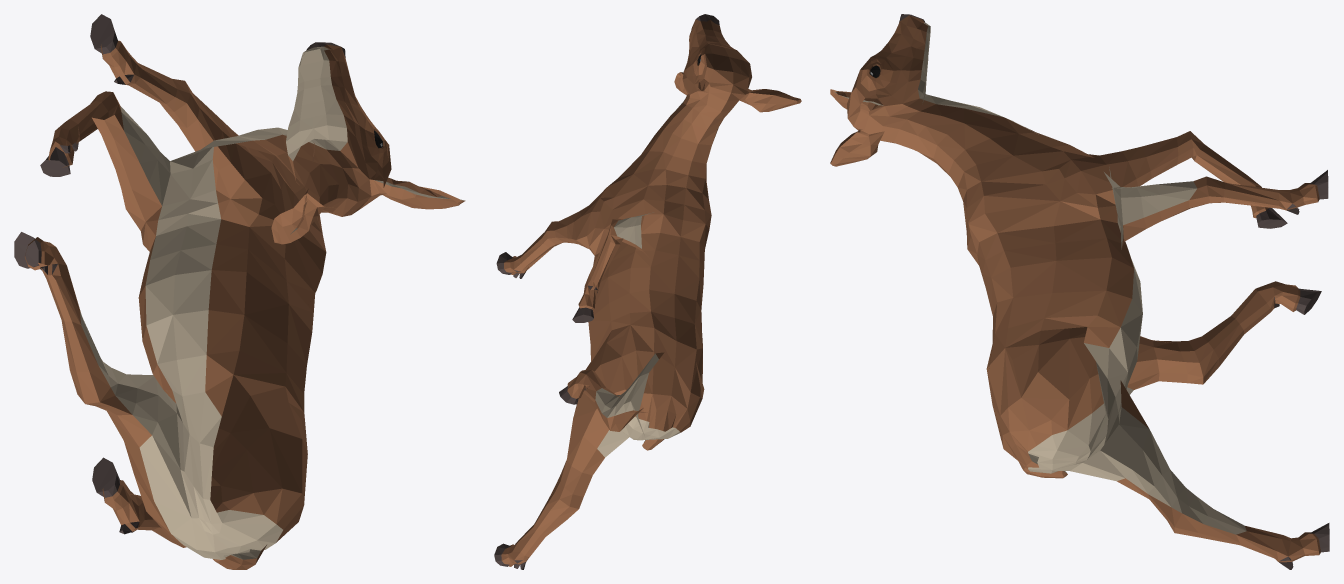
The model's file is deer-walk-4.glb.
3 views of the same model, side by side, from view 1: azimuth 30°, elevation 25°; view 2: azimuth 150°, elevation 25°; view 3: azimuth 270°, elevation 25° (orthographic). The views are drawn at different scales.
Size of the model in its own units: 0.4835 by 1.65 by 1.4.
